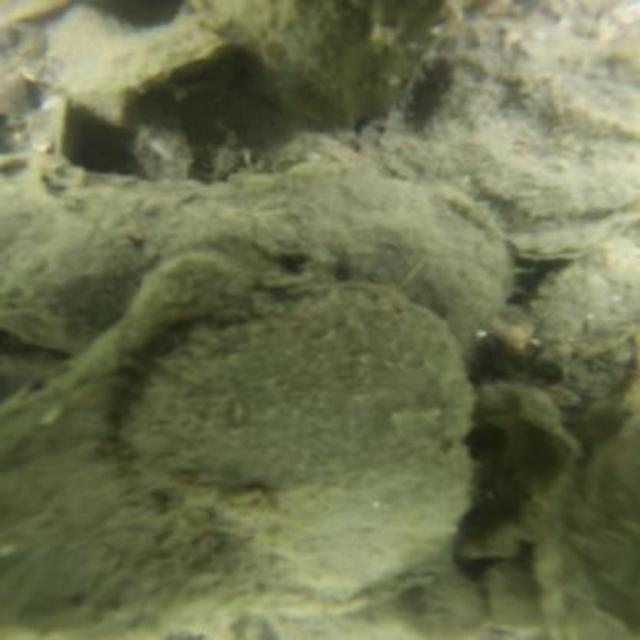Oyster-Closed: (133, 292, 476, 593), (0, 156, 505, 350), (383, 0, 634, 249), (525, 237, 639, 424)
